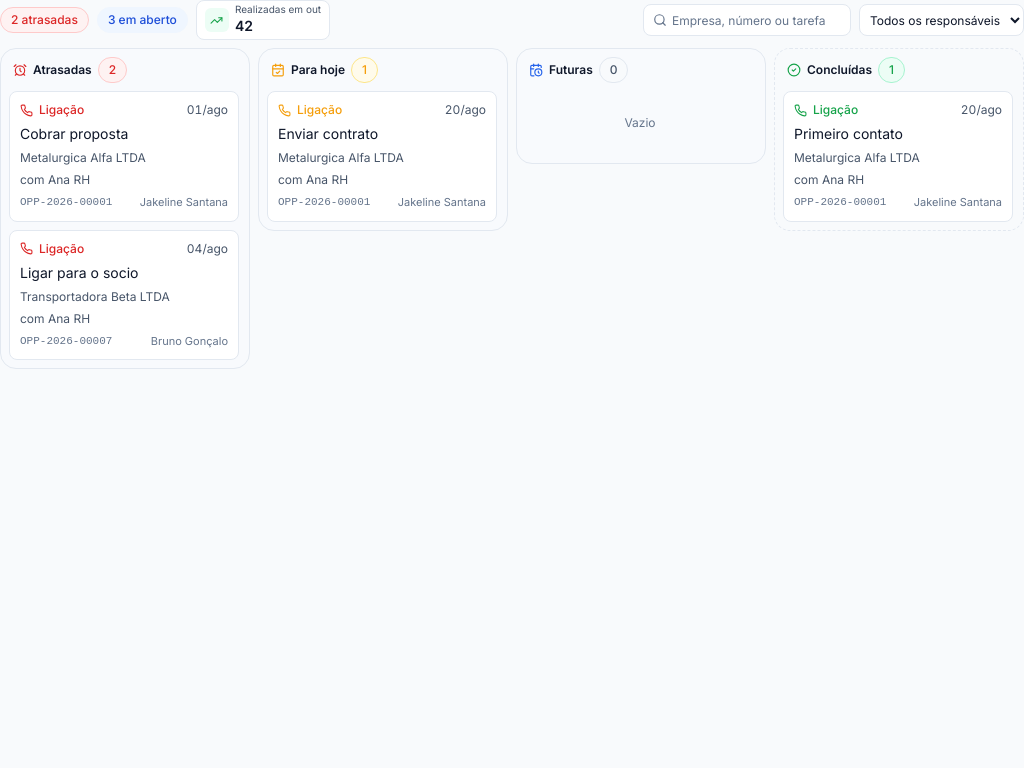
it: Tarefas — o detalhe › concluir exige a próxima quando a oportunidade está viva
Check: the text "Cobrar proposta" is shown, box [20,125,128,142]
Click the button "Cobrar proposta" at coordinates (124, 156), box [9,91,239,222]
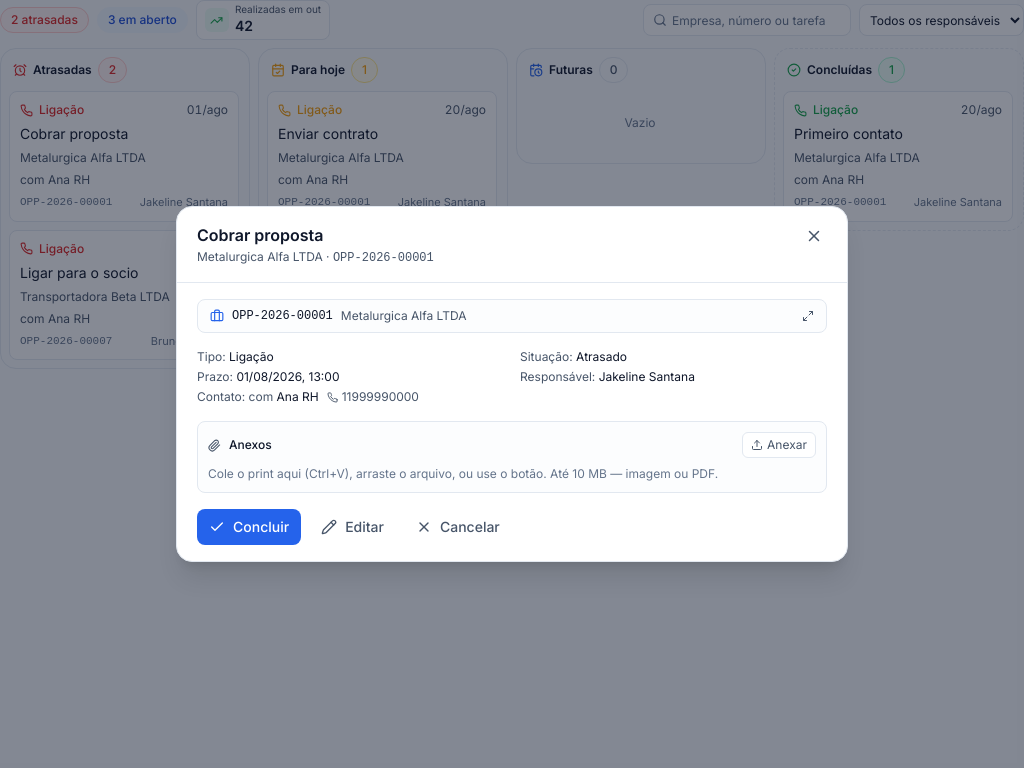
Click the button with aria-label "Concluir Cobrar proposta" at coordinates (249, 527), box [197,509,301,545]
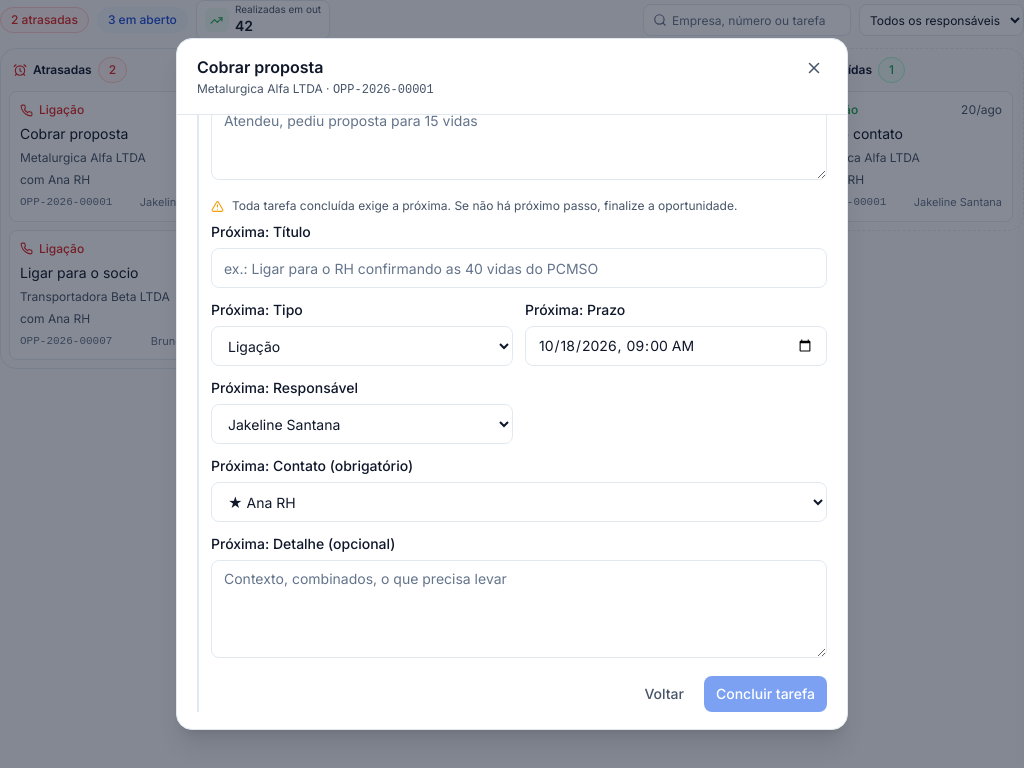
Check: the field labelled "Próxima: Título" is shown, box [211,248,827,288]
Check: the button "Concluir tarefa" is disabled, box [704,676,827,712]
